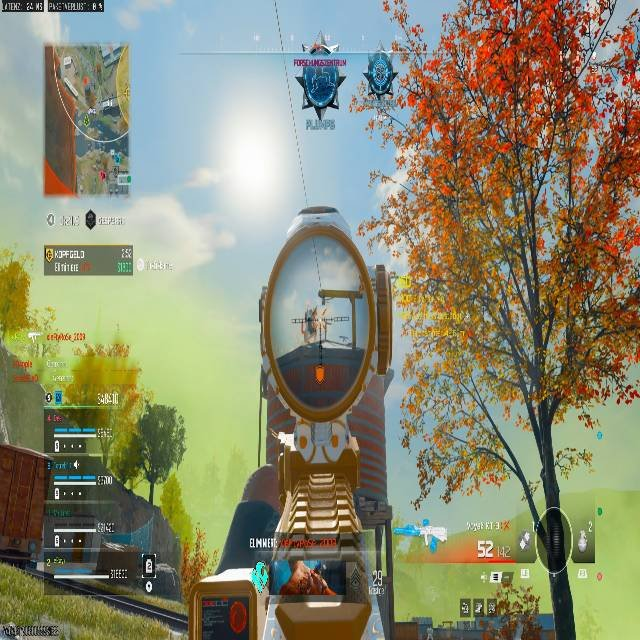player: (301, 303, 330, 342)
